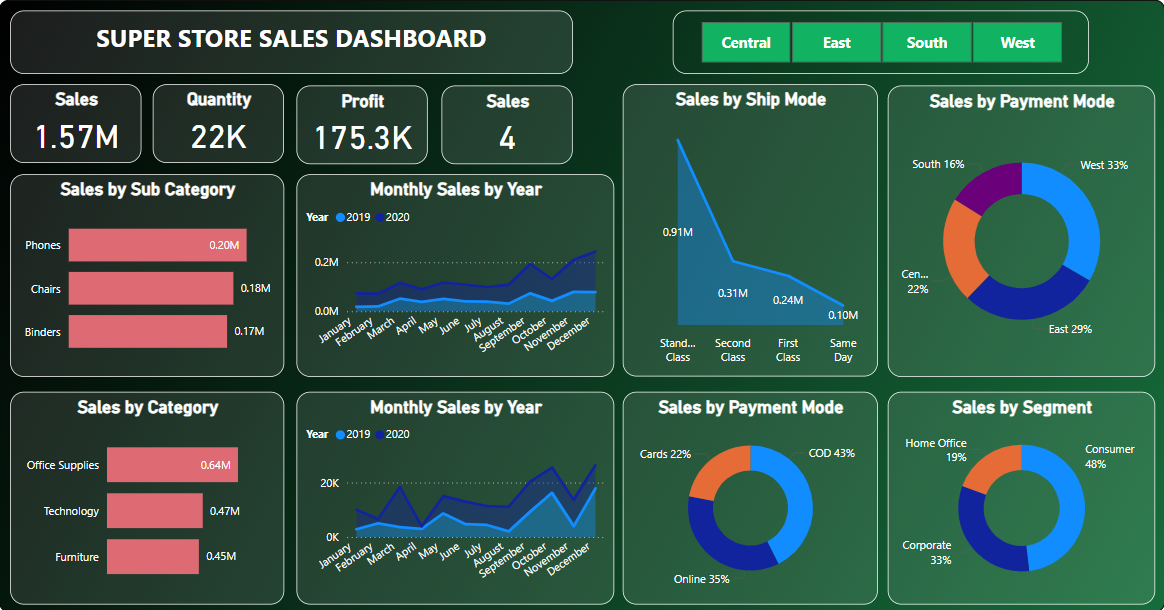

What the dashboard file says about the page in this screenshot:
{"tool":"powerbi","page":{"name":"Page 1","canvas":[1280,720],"ordinal":0},"visuals":[{"type":"clusteredBarChart","title":" Sales by Category","fields":{"Category":["SuperStore_Sales_Dataset.Category"],"Y":["Sum(SuperStore_Sales_Dataset.Sales)"]},"box":[12.3,454.2,300.5,233.3],"z":0},{"type":"clusteredBarChart","title":" Sales by Sub Category","fields":{"Category":["SuperStore_Sales_Dataset.Sub-Category"],"Y":["Sum(SuperStore_Sales_Dataset.Sales)"]},"box":[12.3,215.4,300.5,222.3],"z":1000},{"type":"stackedAreaChart","title":" Sales by Ship Mode","fields":{"Category":["SuperStore_Sales_Dataset.Ship Mode"],"Y":["Sum(SuperStore_Sales_Dataset.Sales)"]},"box":[684.7,116.6,279.9,321.1],"z":2000},{"type":"stackedAreaChart","title":"Monthly Sales by Year","fields":{"Category":["SuperStore_Sales_Dataset.Order Date.Variation.Date Hierarchy.Month","SuperStore_Sales_Dataset.Order Date.Variation.Date Hierarchy.Day"],"Y":["Sum(SuperStore_Sales_Dataset.Sales)"],"Series":["SuperStore_Sales_Dataset.Order Date.Variation.Date Hierarchy.Year"]},"box":[326.6,215.4,348.5,222.3],"z":3000},{"type":"stackedAreaChart","title":"Monthly Sales by Year","fields":{"Category":["SuperStore_Sales_Dataset.Order Date.Variation.Date Hierarchy.Month","SuperStore_Sales_Dataset.Order Date.Variation.Date Hierarchy.Day"],"Series":["SuperStore_Sales_Dataset.Order Date.Variation.Date Hierarchy.Year"],"Y":["Sum(SuperStore_Sales_Dataset.Profit)"]},"box":[326.6,454.2,348.5,233.3],"z":4000},{"type":"donutChart","title":"Sales by Segment","fields":{"Category":["SuperStore_Sales_Dataset.Segment"],"Y":["Sum(SuperStore_Sales_Dataset.Sales)"]},"box":[975.6,454.2,293.7,233.3],"z":5000},{"type":"donutChart","title":"Sales by Payment Mode","fields":{"Category":["SuperStore_Sales_Dataset.Payment Mode"],"Y":["Sum(SuperStore_Sales_Dataset.Sales)"]},"box":[684.7,454.2,279.9,233.3],"z":6000},{"type":"slicer","fields":{"Values":["SuperStore_Sales_Dataset.Region"]},"box":[739.6,35.7,456.9,70],"z":7000},{"type":"textbox","box":[12.3,35.7,617.5,70],"z":8000},{"type":"card","title":"Sales","fields":{"Values":["Sum(SuperStore_Sales_Dataset.Sales)"]},"box":[12.3,116.6,144.1,86.4],"z":9000},{"type":"card","title":"Quantity","fields":{"Values":["Sum(SuperStore_Sales_Dataset.Quantity)"]},"box":[168.8,116.6,144.1,86.4],"z":10000},{"type":"card","title":"Profit","fields":{"Values":["Sum(SuperStore_Sales_Dataset.Profit)"]},"box":[326.6,118,144.1,86.4],"z":11000},{"type":"card","title":"Sales","fields":{"Values":["Avg(SuperStore_Sales_Dataset.AvgDelivery)"]},"box":[485.8,118,144.1,86.4],"z":12000},{"type":"donutChart","title":"Sales by Payment Mode","fields":{"Category":["SuperStore_Sales_Dataset.Region"],"Y":["Sum(SuperStore_Sales_Dataset.Sales)"]},"box":[975.6,118,293.7,319.7],"z":12001}]}

Visuals, with their boxes on the page's 1280x720 design canvas (x1, y1, x2, y2). These are canvas units, not pixel positions in the 1164x610 screenshot, which may show the page scaled, cropped or inside an application window:
" Sales by Category" clusteredBarChart: x1=12, y1=454, x2=313, y2=688
" Sales by Sub Category" clusteredBarChart: x1=12, y1=215, x2=313, y2=438
" Sales by Ship Mode" stackedAreaChart: x1=685, y1=117, x2=965, y2=438
"Monthly Sales by Year" stackedAreaChart: x1=327, y1=215, x2=675, y2=438
"Monthly Sales by Year" stackedAreaChart: x1=327, y1=454, x2=675, y2=688
"Sales by Segment" donutChart: x1=976, y1=454, x2=1269, y2=688
"Sales by Payment Mode" donutChart: x1=685, y1=454, x2=965, y2=688
slicer - SuperStore_Sales_Dataset.Region: x1=740, y1=36, x2=1196, y2=106
textbox: x1=12, y1=36, x2=630, y2=106
"Sales" card: x1=12, y1=117, x2=156, y2=203
"Quantity" card: x1=169, y1=117, x2=313, y2=203
"Profit" card: x1=327, y1=118, x2=471, y2=204
"Sales" card: x1=486, y1=118, x2=630, y2=204
"Sales by Payment Mode" donutChart: x1=976, y1=118, x2=1269, y2=438
